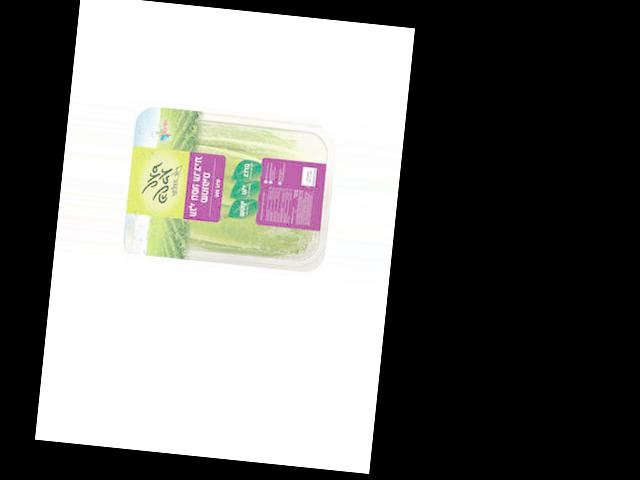lettuce: (174, 220, 339, 310)
